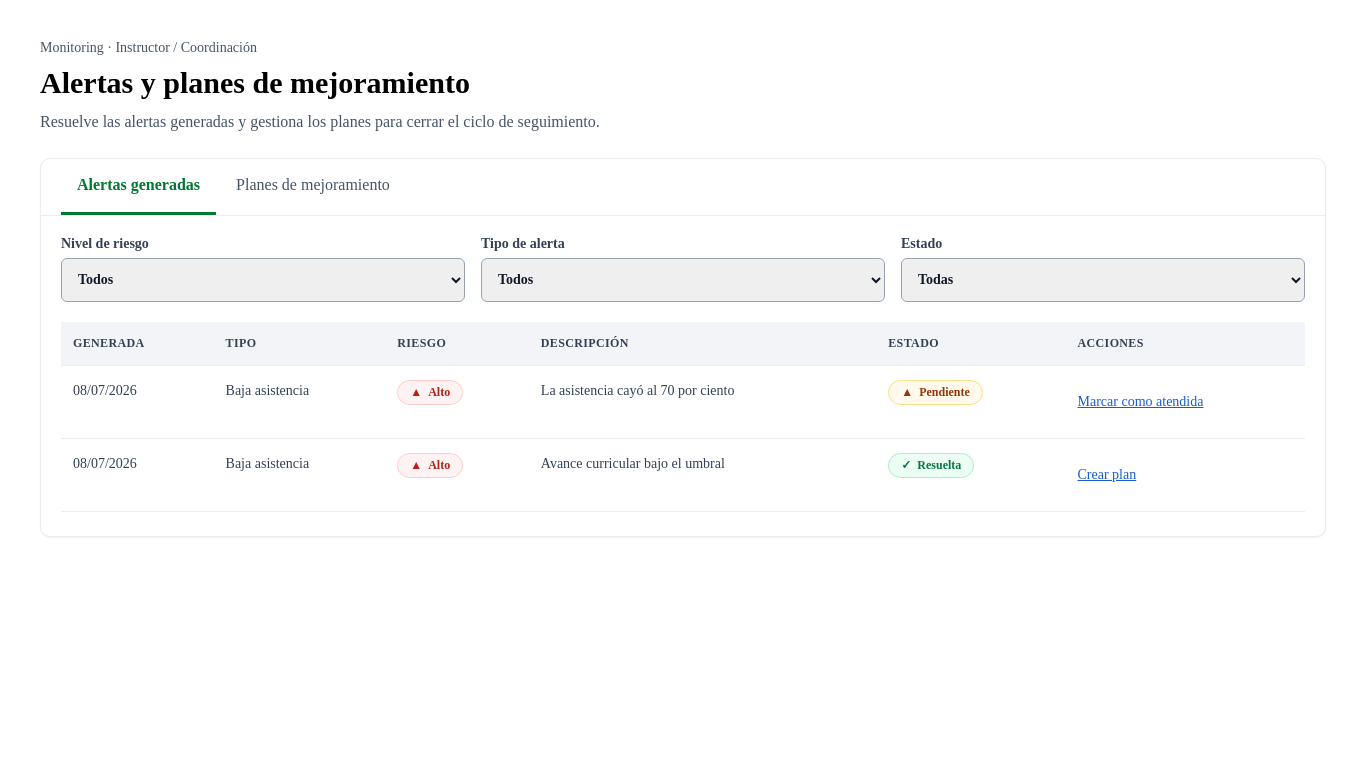
it: HU-MON-008 alertas generadas y planes de mejoramiento › E2: exige notas, confirma y resuelve con PUT .../resolve (nunca POST)
Check: the text "La asistencia cayó al 70 por ciento" is shown, box 529,366 -> 876,438
Step 1. Click the button "Marcar como atendida" → (1140, 402), box 1078,380 -> 1204,424
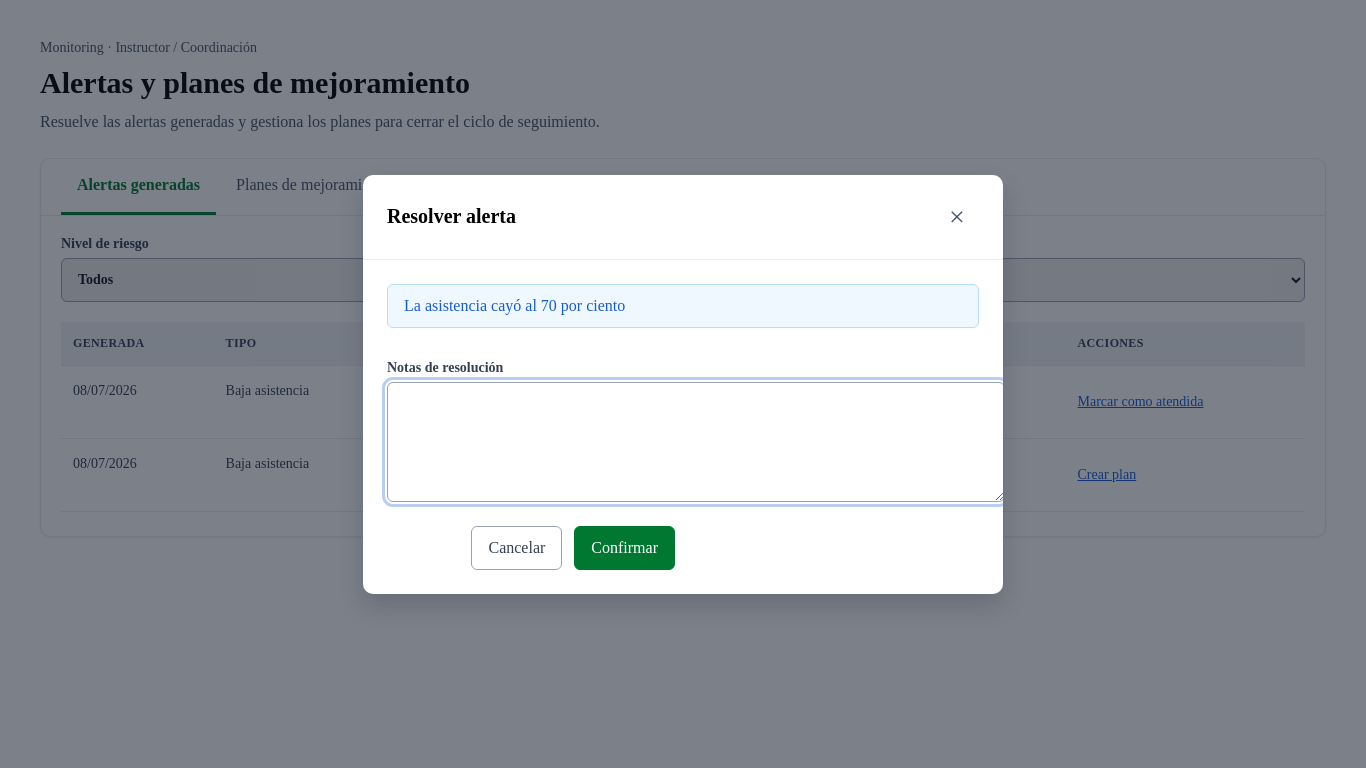
Step 2. Click the button "Confirmar" → (625, 548), box 574,526 -> 675,570
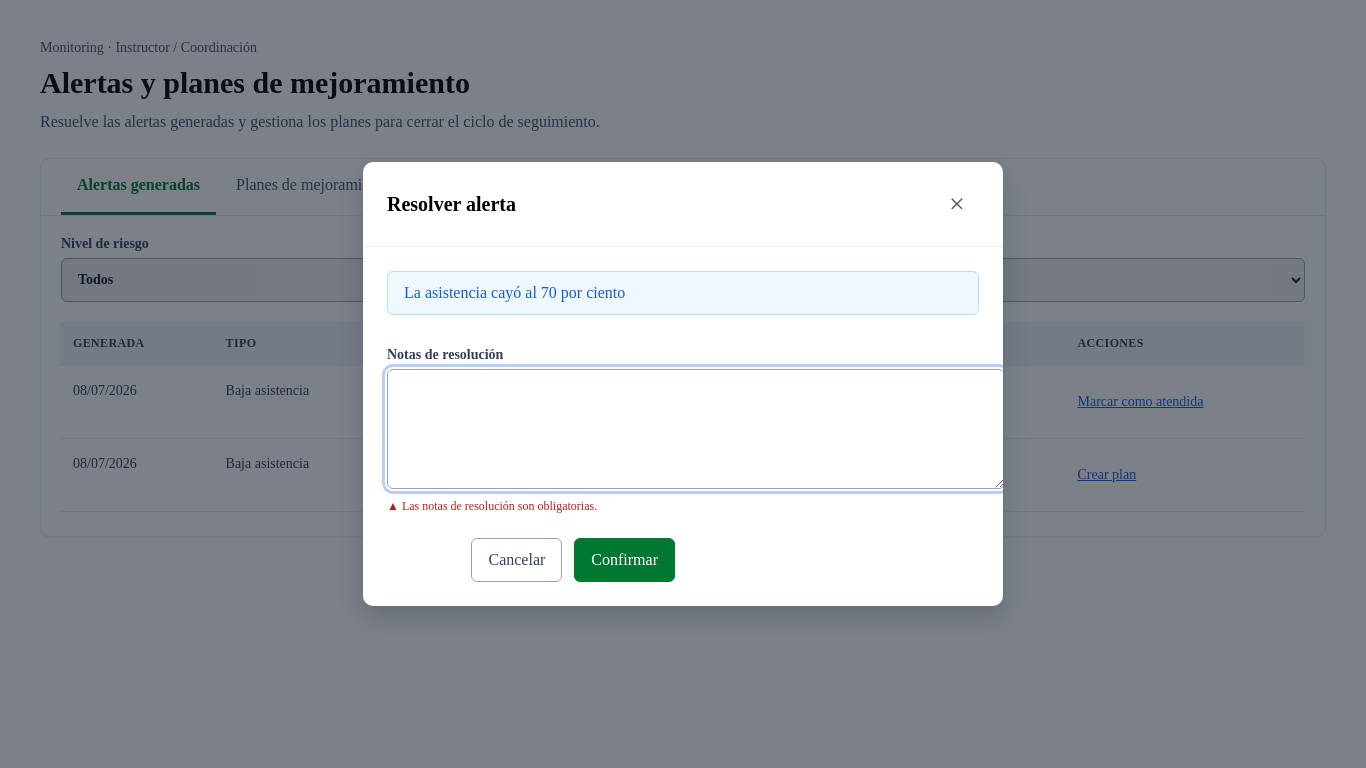
Check: the text "▲ Las notas de resolución son obligatorias." is shown, box 387,499 -> 597,513
Step 3. Type "Se contactó al instructor" into the text box labelled "Notas de resolución" → (696, 429), box 387,369 -> 1005,489
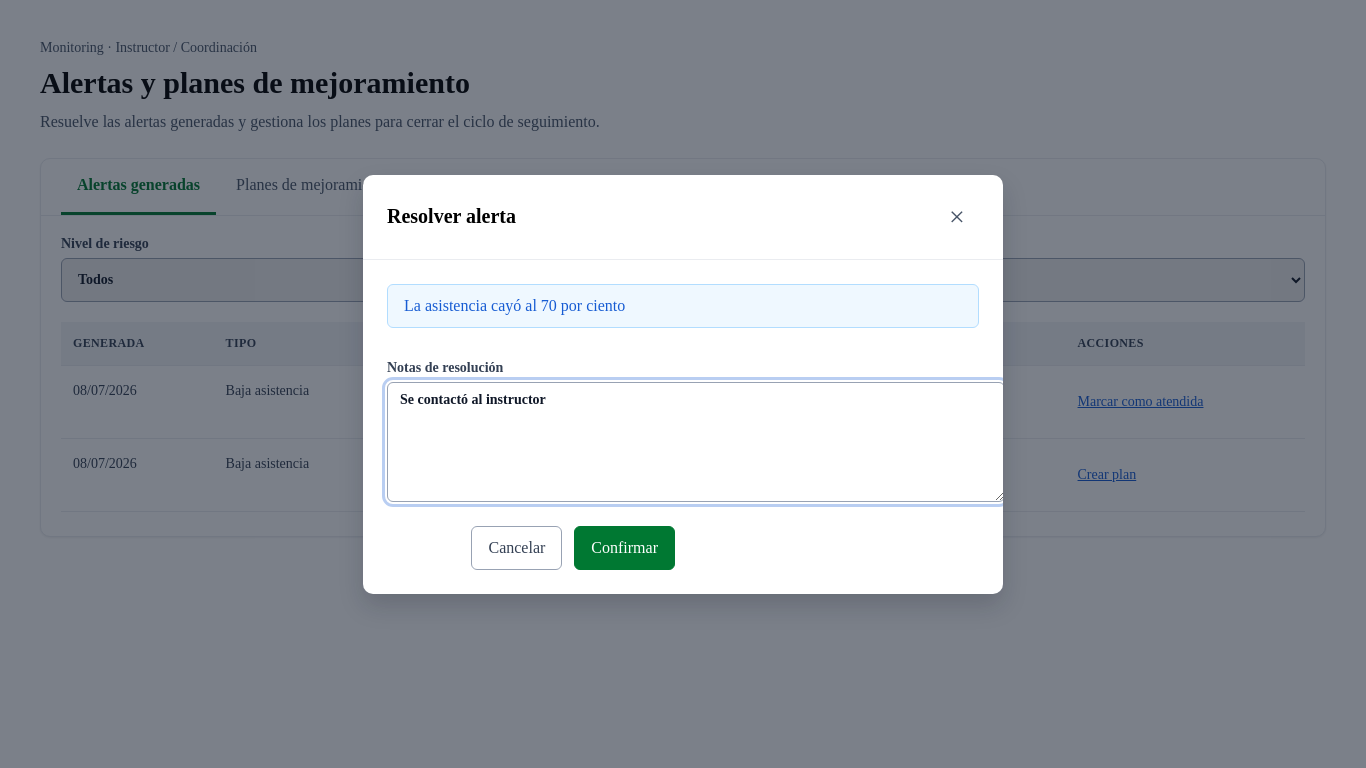
Step 4. Click the button "Confirmar" → (625, 548), box 574,526 -> 675,570
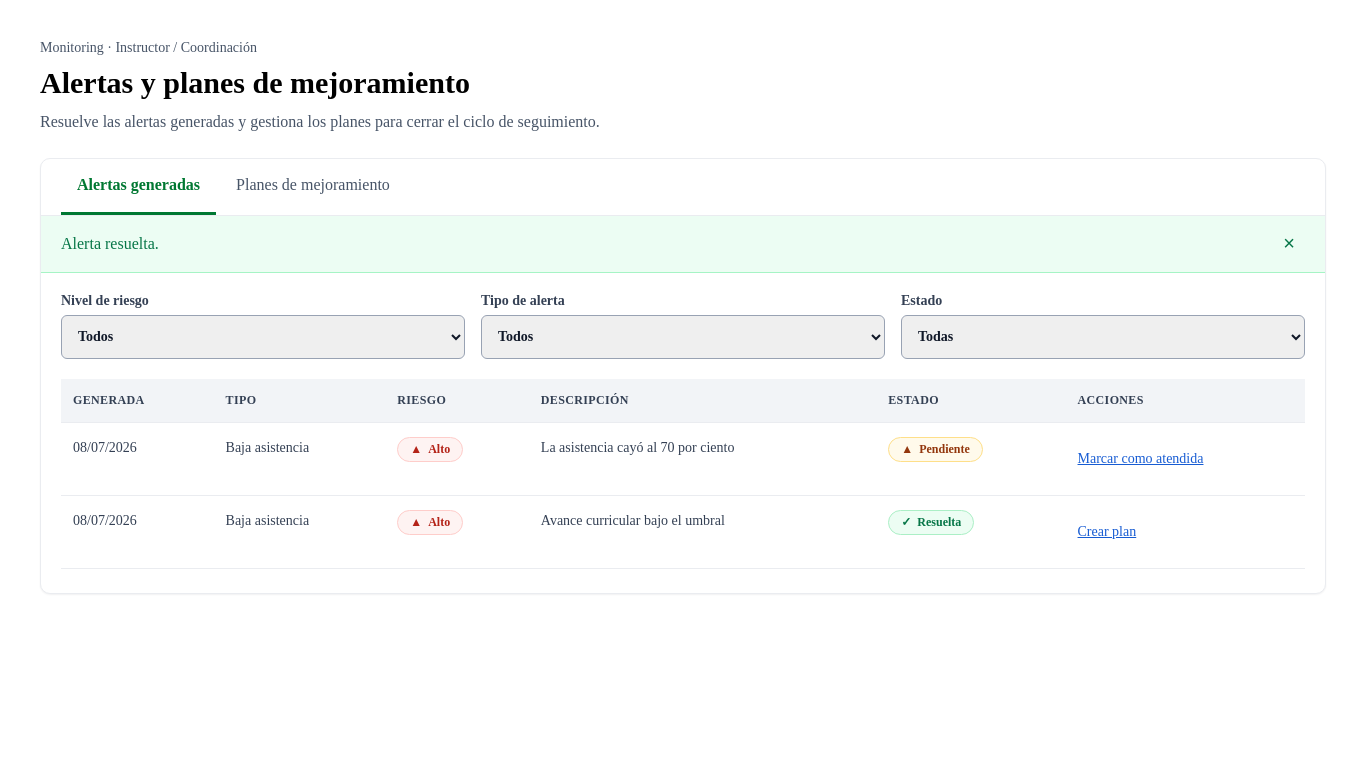
Check: the text "Alerta resuelta." is shown, box 61,234 -> 159,252
